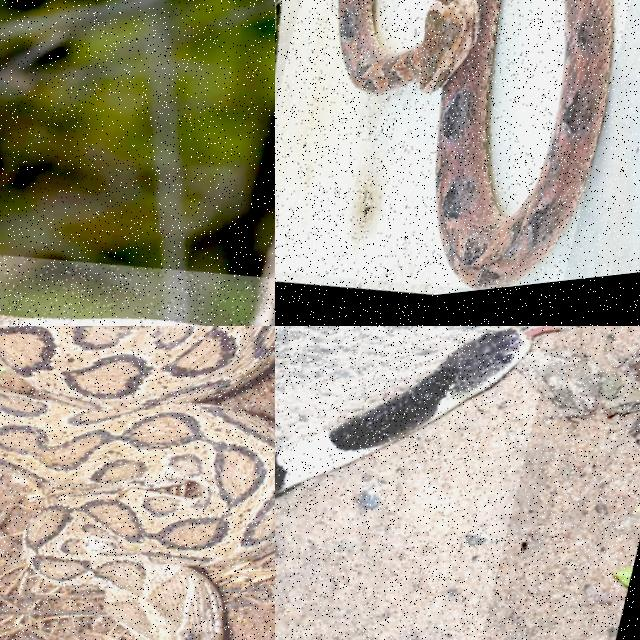Bungarus candidus: (275, 326, 555, 497)
Calloselasma rhodostoma: (339, 0, 611, 289)
Daboia siamensis: (0, 326, 274, 639)
Naja kaouthia: (0, 315, 202, 325)
snake: (0, 326, 274, 639), (339, 0, 611, 289), (275, 326, 555, 497), (0, 315, 202, 325)
